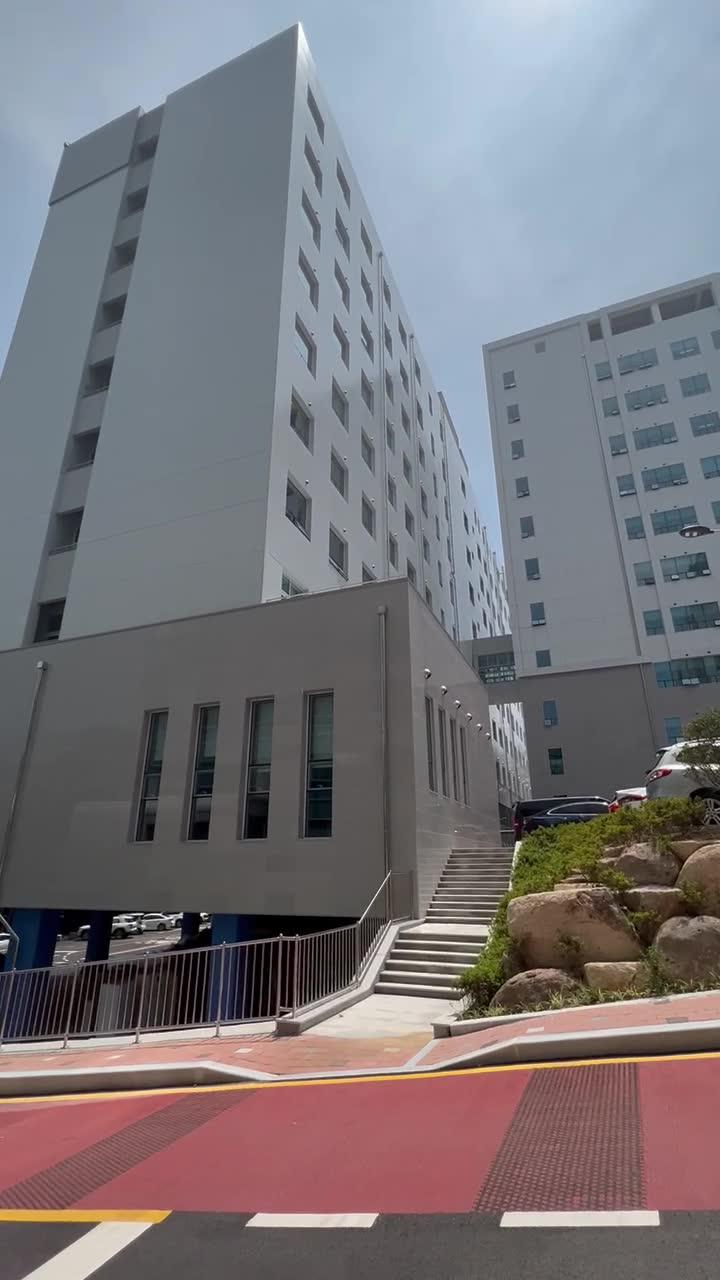building: (40, 64, 524, 1006)
